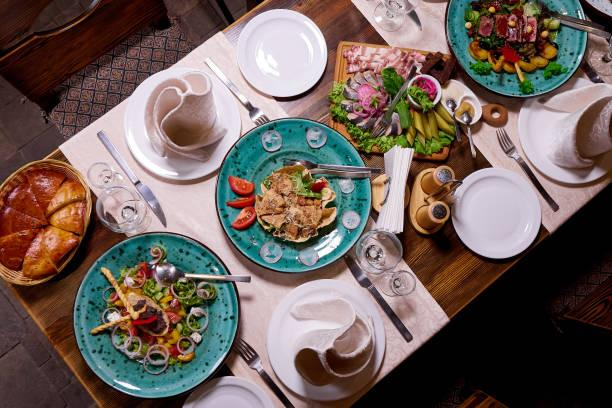Braised Crucian Carp: (67, 231, 243, 403), (210, 119, 371, 269), (446, 0, 586, 97), (0, 158, 93, 282)
